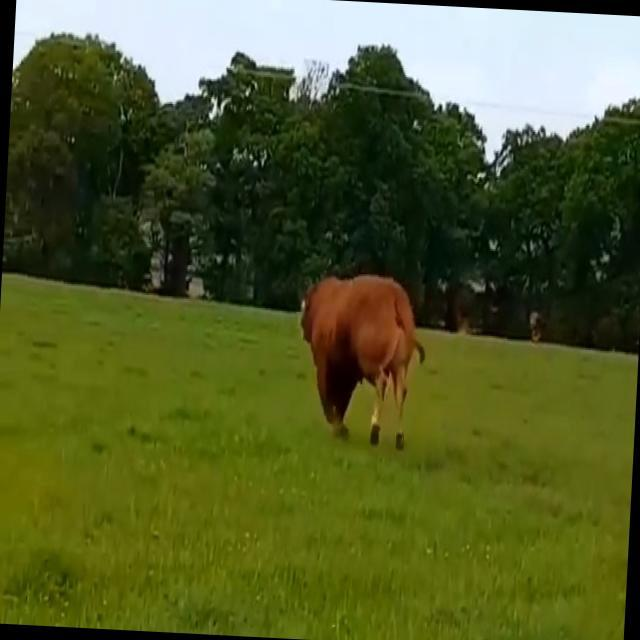COW: (301, 275, 425, 448), (328, 295, 369, 366)
